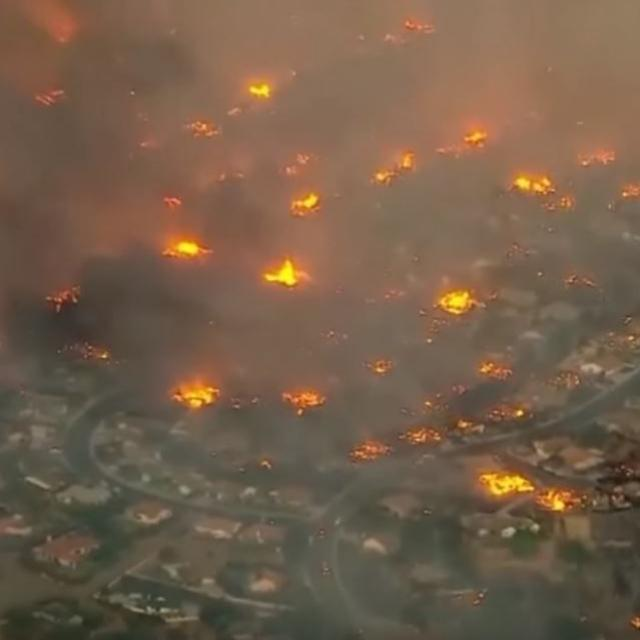Smoke: (6, 0, 640, 247)
